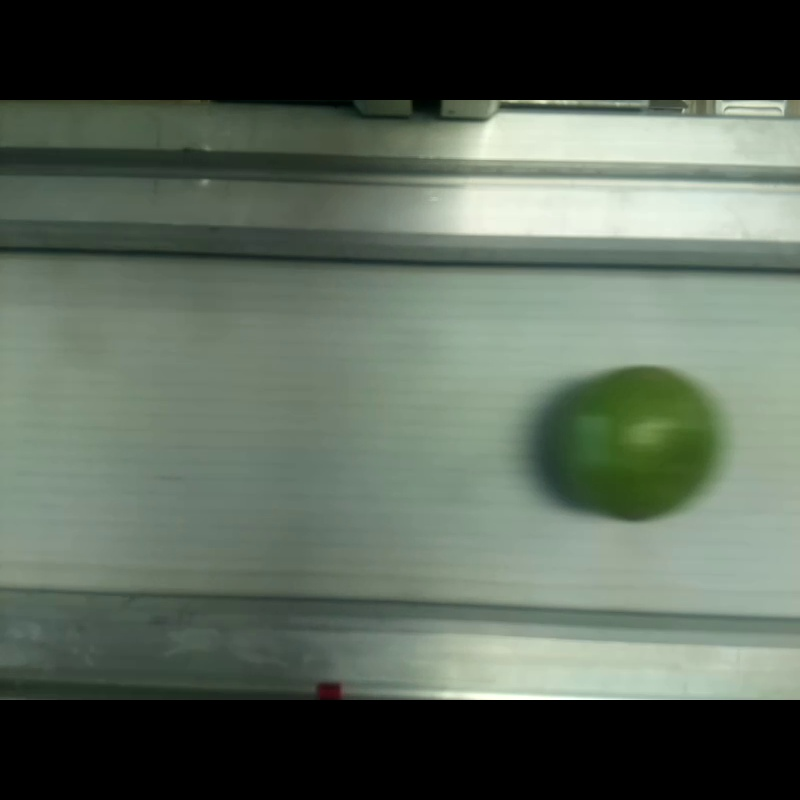lime: (546, 363, 718, 524)
